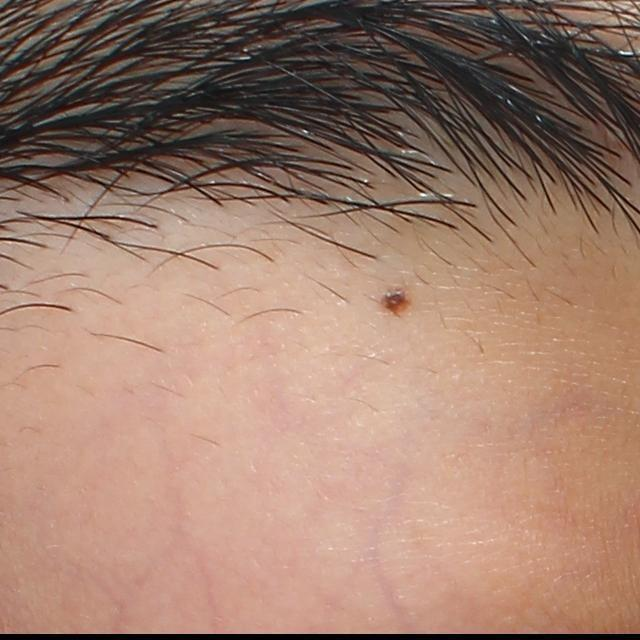nevus: (378, 279, 409, 315)
